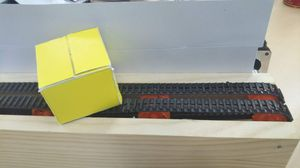box4: (33, 26, 122, 125)
